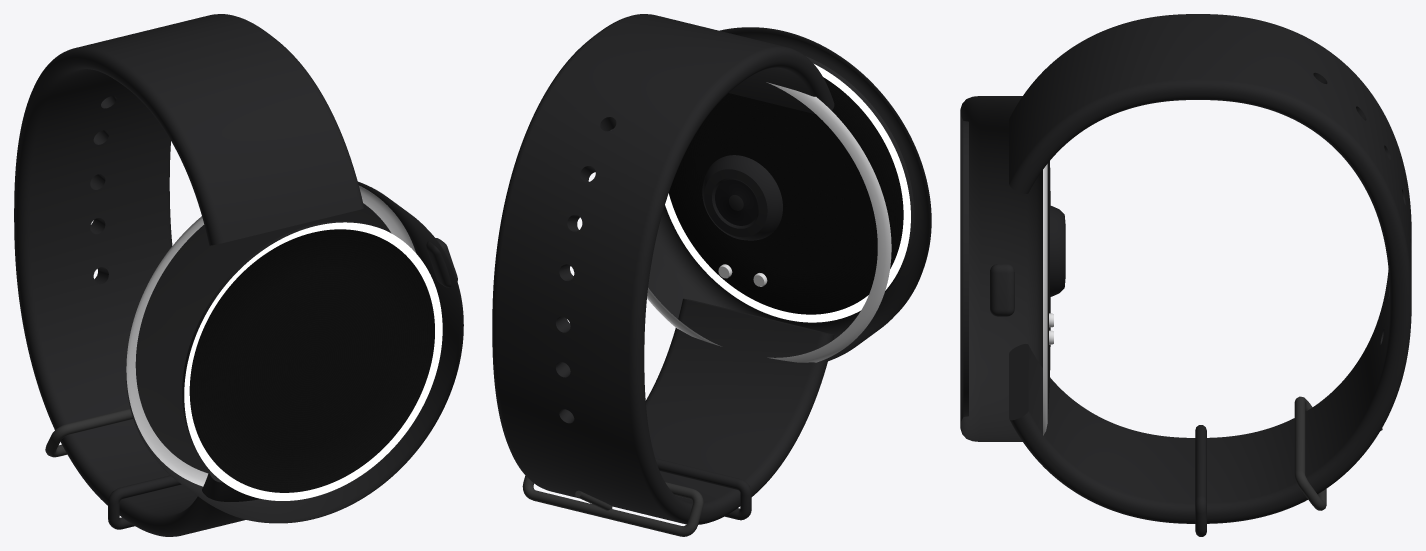
File: band_B2.glb
3 renders of one model, left to right at view 1: azimuth 30°, elevation 25°; view 2: azimuth 150°, elevation 25°; view 3: azimuth 270°, elevation 25°, orthographic. The views are drawn at different scales.
Parts seen in each view (by area): view 1: TIMEIN_Band_B2; view 2: TIMEIN_Band_B2; view 3: TIMEIN_Band_B2.
Boxes of the visible parts, bbox=[...] form: TIMEIN_Band_B2: bbox=[14, 14, 463, 536]; TIMEIN_Band_B2: bbox=[492, 14, 931, 536]; TIMEIN_Band_B2: bbox=[960, 14, 1411, 536].
Size of the model in its own units: 0.0453 by 0.0642 by 0.0579.
Materials: 8 (1 with a texture image).
